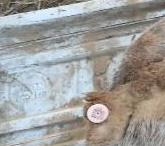text: (79, 97, 115, 129)
